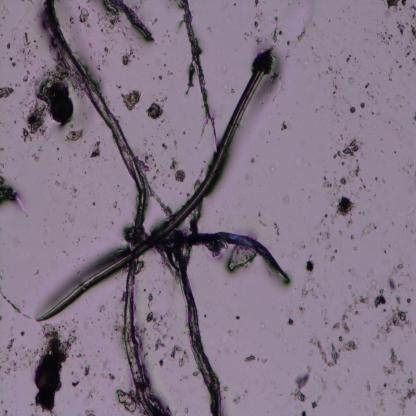Background material: (40, 316, 79, 367), (309, 336, 359, 368), (0, 174, 28, 218), (375, 308, 410, 342), (19, 99, 46, 138), (0, 288, 32, 319), (114, 388, 140, 416), (250, 47, 275, 75), (382, 346, 405, 376), (151, 309, 174, 339), (227, 245, 252, 272), (95, 11, 122, 33), (332, 140, 360, 161), (29, 396, 58, 416), (121, 92, 145, 116), (142, 150, 160, 181), (336, 194, 358, 218), (90, 44, 112, 66), (146, 98, 164, 123), (269, 13, 284, 42), (18, 47, 37, 69), (76, 3, 94, 26), (342, 303, 354, 335), (323, 177, 347, 192), (268, 70, 284, 92), (360, 219, 378, 238), (26, 146, 46, 163), (110, 318, 126, 338), (376, 384, 387, 410), (374, 286, 387, 308), (0, 80, 14, 100), (66, 129, 84, 144), (360, 291, 374, 310), (390, 260, 406, 276), (84, 386, 99, 403), (296, 372, 311, 389), (376, 31, 394, 45), (100, 354, 110, 378), (89, 141, 103, 158), (28, 348, 40, 366), (394, 18, 406, 36), (330, 76, 340, 97), (124, 49, 136, 66), (138, 328, 148, 348), (21, 29, 32, 47), (292, 389, 306, 403), (20, 128, 33, 143), (27, 75, 42, 88), (159, 351, 171, 367), (233, 390, 245, 406), (170, 344, 182, 360), (388, 275, 398, 294), (222, 80, 236, 93), (180, 350, 190, 368), (312, 48, 322, 66), (297, 26, 308, 42), (147, 288, 155, 310), (397, 395, 406, 414), (154, 338, 166, 352), (318, 375, 326, 394), (303, 275, 318, 285), (385, 0, 400, 10), (350, 289, 358, 307), (35, 5, 43, 23), (304, 260, 314, 274), (193, 175, 202, 190), (308, 288, 319, 300), (281, 192, 291, 205), (176, 170, 186, 183), (10, 358, 18, 374), (322, 309, 329, 327), (170, 159, 179, 173), (243, 30, 254, 41), (406, 388, 416, 400), (243, 356, 258, 364), (272, 220, 280, 235), (84, 362, 92, 377), (335, 379, 342, 396), (6, 337, 14, 351), (347, 169, 355, 183), (242, 176, 253, 186), (68, 186, 79, 196), (7, 323, 14, 338), (389, 387, 402, 395), (352, 163, 360, 176), (346, 216, 354, 229), (410, 23, 416, 40), (258, 218, 268, 228), (96, 302, 106, 312), (298, 306, 307, 317), (146, 312, 155, 323), (283, 48, 290, 62), (84, 408, 96, 416), (32, 268, 42, 277), (364, 381, 372, 392), (399, 166, 410, 174), (404, 44, 410, 58), (281, 121, 288, 133), (338, 64, 344, 78), (107, 373, 116, 382), (350, 105, 359, 114), (322, 231, 331, 240), (255, 36, 263, 46), (19, 352, 29, 360), (71, 380, 81, 388), (348, 267, 356, 277), (301, 287, 307, 299), (60, 248, 69, 256), (221, 383, 230, 391), (141, 351, 150, 359), (409, 36, 415, 48), (358, 138, 364, 149), (388, 66, 394, 77), (3, 367, 11, 375), (348, 76, 356, 84), (52, 180, 60, 188), (333, 322, 340, 331), (221, 63, 228, 72), (336, 228, 343, 237), (324, 242, 333, 249), (67, 16, 73, 26), (114, 83, 122, 90), (2, 408, 9, 416), (412, 170, 416, 184), (180, 373, 188, 380), (406, 376, 413, 384), (407, 160, 414, 168), (409, 4, 416, 12), (364, 82, 371, 90), (161, 142, 168, 150), (269, 166, 276, 174), (6, 351, 11, 362), (334, 109, 340, 118), (262, 355, 268, 364), (297, 244, 307, 249), (411, 11, 416, 21), (172, 140, 178, 148), (165, 28, 171, 36), (346, 54, 352, 62), (396, 297, 402, 305), (328, 65, 334, 73), (0, 272, 6, 280), (286, 38, 292, 46), (100, 330, 106, 338), (249, 158, 255, 166), (207, 24, 213, 32), (330, 199, 336, 207), (22, 74, 28, 82), (330, 254, 336, 262), (330, 103, 336, 111), (366, 92, 374, 98), (0, 161, 6, 169), (228, 328, 233, 337), (113, 199, 118, 208), (76, 236, 81, 245), (288, 317, 293, 326), (412, 110, 416, 121), (382, 382, 389, 388), (312, 402, 319, 408), (400, 0, 407, 6), (320, 219, 326, 226), (360, 102, 366, 109), (374, 176, 380, 183), (385, 10, 392, 16), (166, 71, 176, 75), (75, 353, 83, 358), (315, 236, 320, 244), (306, 366, 312, 372), (256, 211, 262, 217), (159, 180, 165, 186), (387, 77, 394, 82), (193, 369, 198, 376), (10, 61, 17, 66), (184, 407, 189, 414), (331, 214, 334, 225), (412, 58, 416, 66), (186, 190, 190, 198), (360, 150, 364, 158), (318, 72, 322, 80), (0, 146, 4, 154), (6, 41, 10, 49), (343, 126, 348, 132), (14, 350, 19, 356), (339, 135, 344, 141), (301, 410, 306, 416), (255, 22, 260, 28), (353, 246, 358, 252), (326, 336, 330, 343), (307, 323, 311, 330), (334, 70, 337, 79), (158, 75, 163, 80), (324, 70, 329, 75), (236, 315, 241, 320), (348, 284, 353, 289), (1, 359, 6, 364), (21, 344, 26, 349), (339, 336, 343, 342), (26, 70, 30, 76), (407, 297, 411, 303), (360, 122, 364, 128), (369, 344, 375, 348), (354, 310, 358, 316), (351, 61, 355, 67), (203, 312, 207, 318), (77, 270, 81, 276), (382, 178, 386, 184), (398, 104, 404, 108), (254, 0, 258, 6), (362, 183, 366, 188), (21, 331, 25, 336), (314, 108, 318, 113), (80, 365, 84, 370), (358, 186, 362, 191), (351, 191, 355, 196), (308, 254, 313, 258), (322, 295, 326, 300), (398, 282, 402, 287), (391, 221, 395, 226), (398, 64, 402, 69), (9, 56, 13, 61), (362, 212, 368, 215), (233, 0, 236, 6), (320, 230, 323, 236), (376, 112, 380, 116), (388, 50, 392, 54), (407, 72, 411, 76), (318, 395, 322, 399), (383, 250, 387, 254), (404, 224, 408, 228), (92, 202, 96, 206), (372, 412, 376, 416), (334, 250, 338, 254), (380, 149, 384, 153), (342, 161, 345, 166), (373, 193, 376, 198), (113, 295, 116, 300), (165, 280, 168, 285), (360, 177, 363, 182), (71, 370, 74, 375), (348, 367, 350, 374), (395, 40, 399, 43), (13, 120, 16, 124), (56, 147, 59, 151), (387, 121, 391, 124), (330, 146, 333, 150), (171, 336, 174, 340), (358, 210, 361, 214), (367, 189, 371, 192), (97, 349, 100, 353), (384, 25, 387, 29), (406, 21, 409, 25), (352, 234, 354, 240), (376, 42, 379, 46), (162, 272, 166, 275), (97, 318, 100, 322), (0, 34, 3, 38), (111, 222, 114, 226), (372, 111, 375, 115), (399, 8, 402, 12), (354, 56, 357, 60), (84, 170, 87, 174), (36, 45, 38, 50), (333, 192, 335, 197), (401, 41, 403, 46), (328, 18, 330, 23), (0, 316, 2, 321), (355, 159, 358, 162), (325, 170, 328, 173), (394, 151, 397, 154), (143, 289, 146, 292), (158, 291, 161, 294), (183, 132, 186, 135), (364, 38, 368, 40), (372, 56, 376, 58), (369, 198, 371, 202), (356, 70, 358, 74), (358, 82, 360, 86), (324, 215, 328, 217), (3, 16, 5, 20), (334, 170, 336, 174), (382, 21, 384, 25), (118, 185, 120, 188), (91, 322, 94, 324), (386, 208, 388, 211), (396, 128, 398, 131), (0, 366, 2, 369), (164, 65, 166, 68), (377, 19, 379, 22), (34, 39, 36, 42), (370, 72, 373, 74), (387, 98, 390, 100), (360, 115, 362, 118), (412, 122, 414, 125), (402, 96, 404, 99), (364, 50, 366, 52), (364, 28, 366, 30), (396, 61, 398, 63), (88, 305, 90, 307), (380, 138, 382, 140), (381, 0, 383, 1)
Cellulose filter fibre: (44, 0, 150, 245), (172, 244, 224, 416), (123, 260, 165, 416), (178, 0, 216, 132), (109, 0, 159, 43)
Cotton: (175, 224, 297, 288)
Diatom: (34, 357, 61, 397), (51, 93, 73, 125)
